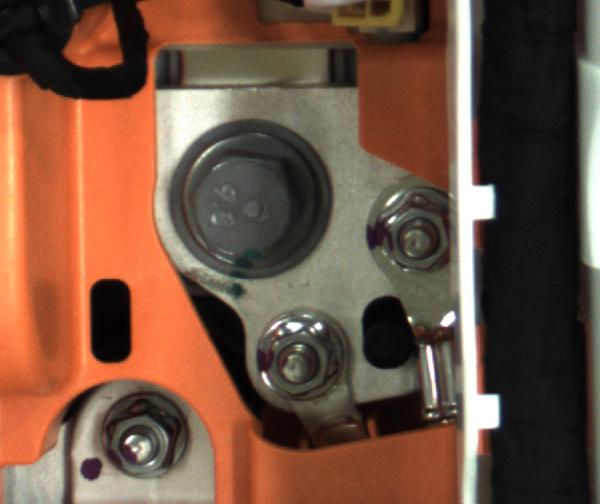screw_s: (248, 315, 334, 401), (369, 200, 452, 274), (100, 405, 184, 477)
